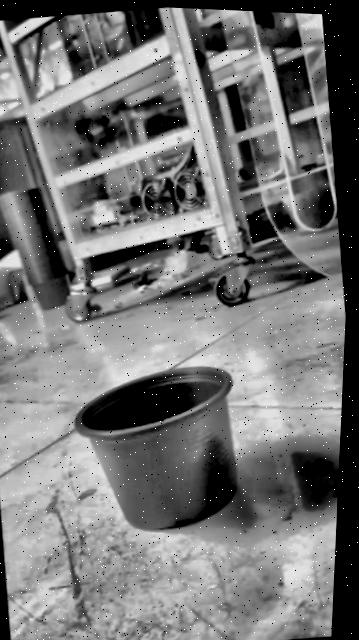pot: (64, 357, 249, 542)
